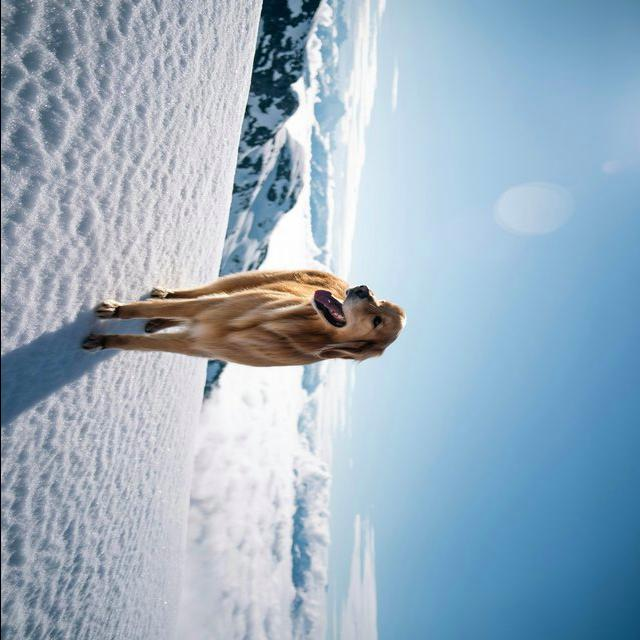retriever: (81, 267, 407, 368)
